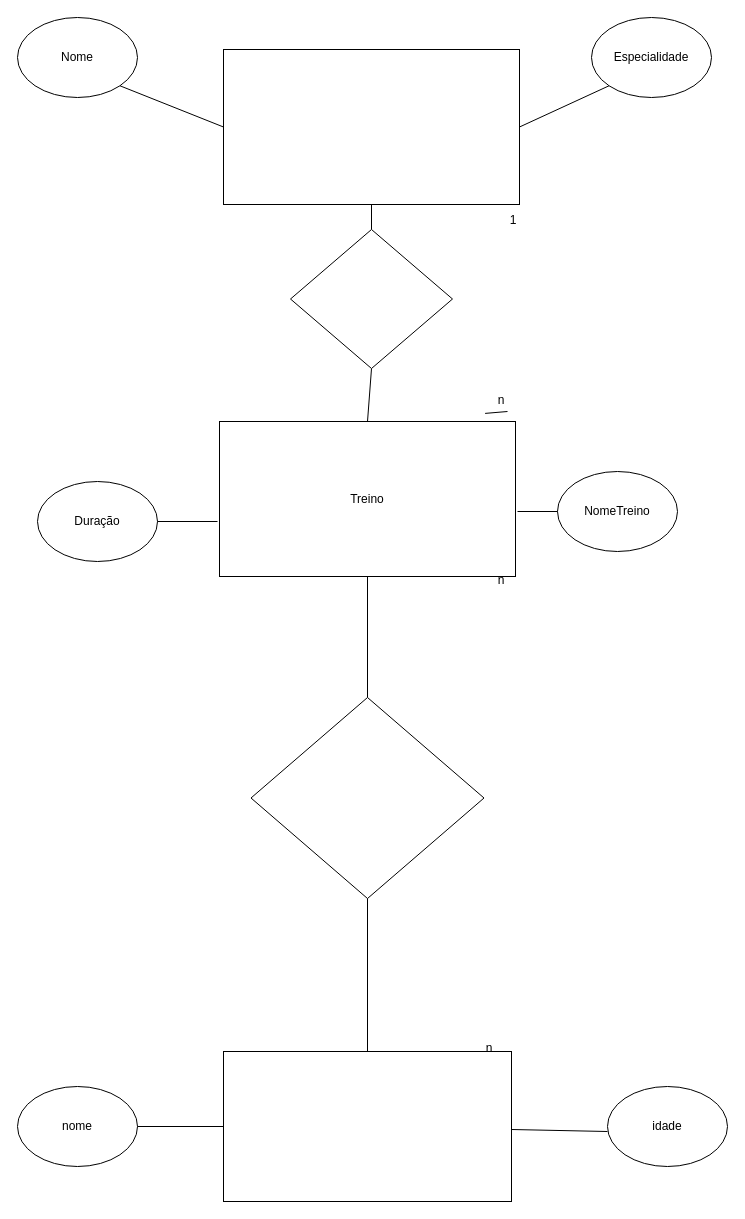
The diagram is 745 pixels wide and 1219 high, and some of its shapes have lost their labels. The shapes that lost their labels are listed below. From the top down, each one's box as (x1, y1, x2, y2) in pixels, then its label:
(222, 48, 520, 204): Instrutor
(290, 228, 452, 368): monta
(250, 696, 484, 898): realiza
(222, 1050, 512, 1202): Aluno
